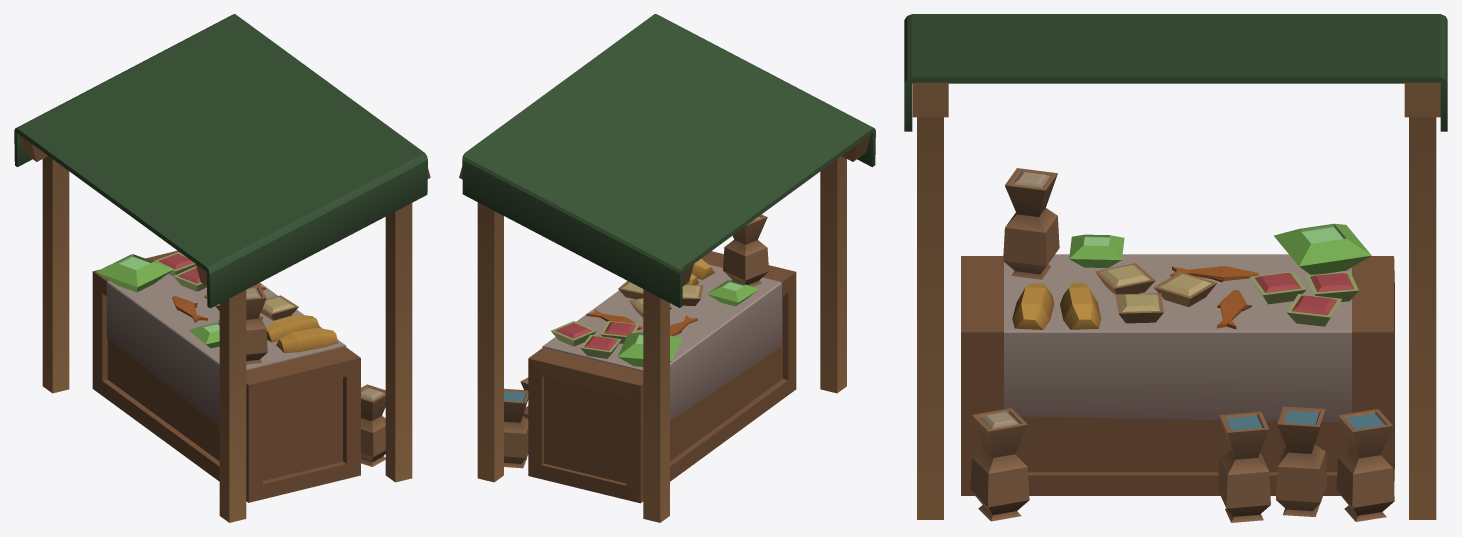
Rendered from npcshop2.glb.
3 renders of one model, left to right at view 1: azimuth 30°, elevation 25°; view 2: azimuth 150°, elevation 25°; view 3: azimuth 270°, elevation 25°, orthographic. The views are drawn at different scales.
Parts seen in each view (by area): view 1: Cube.013; view 2: Cube.013; view 3: Cube.013.
Part boxes in pixels (<box>): Cube.013: <box>14,14,430,522</box>; Cube.013: <box>459,14,875,522</box>; Cube.013: <box>904,14,1447,522</box>.
Bounding box in the file's own units: 1.99 × 2.76 × 3.01.
